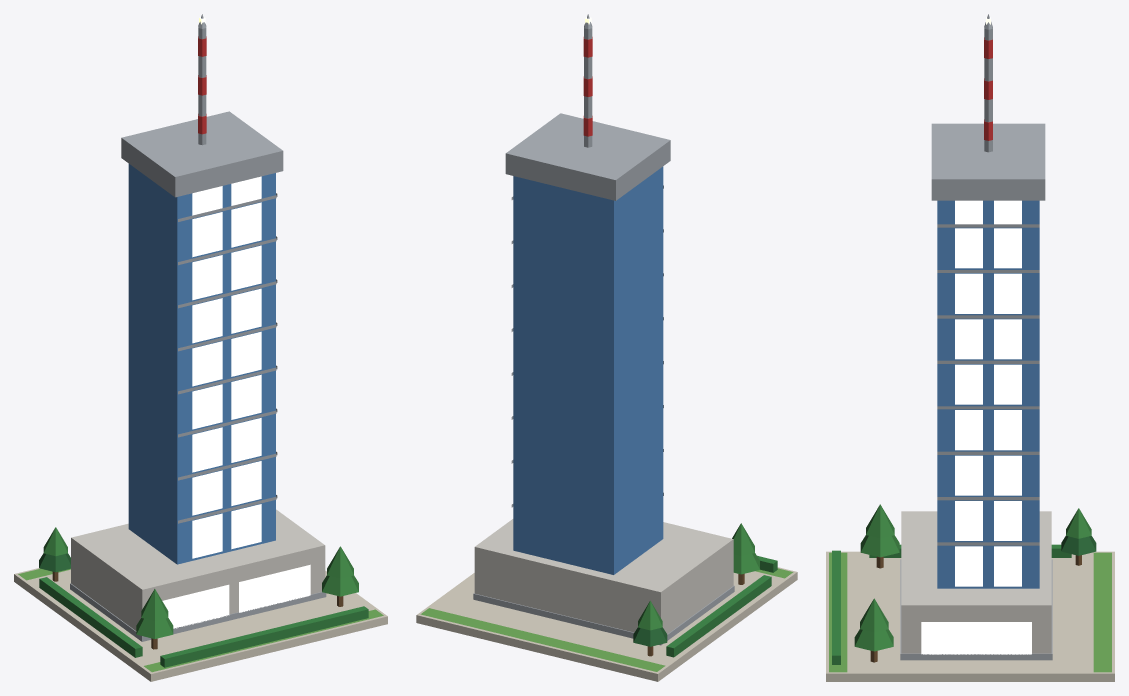
3 views of the same model, side by side, from view 1: azimuth 30°, elevation 25°; view 2: azimuth 150°, elevation 25°; view 3: azimuth 270°, elevation 25° (orthographic). The views are drawn at different scales.
Visible parts, largest first — view 1: b20; view 2: b20; view 3: b20.
Part boxes in pixels (box(x1,y1,x2,y2)): b20: box(14, 14, 387, 681); b20: box(416, 14, 797, 681); b20: box(826, 14, 1114, 681).
Bounding box in the file's own units: 0.96 × 2.24 × 0.96.
